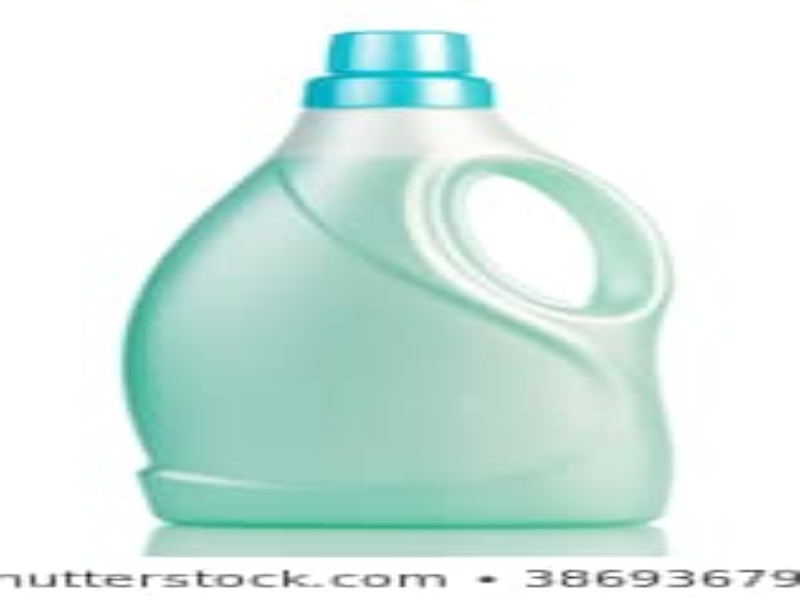detergent-bottle: (112, 24, 693, 533)
